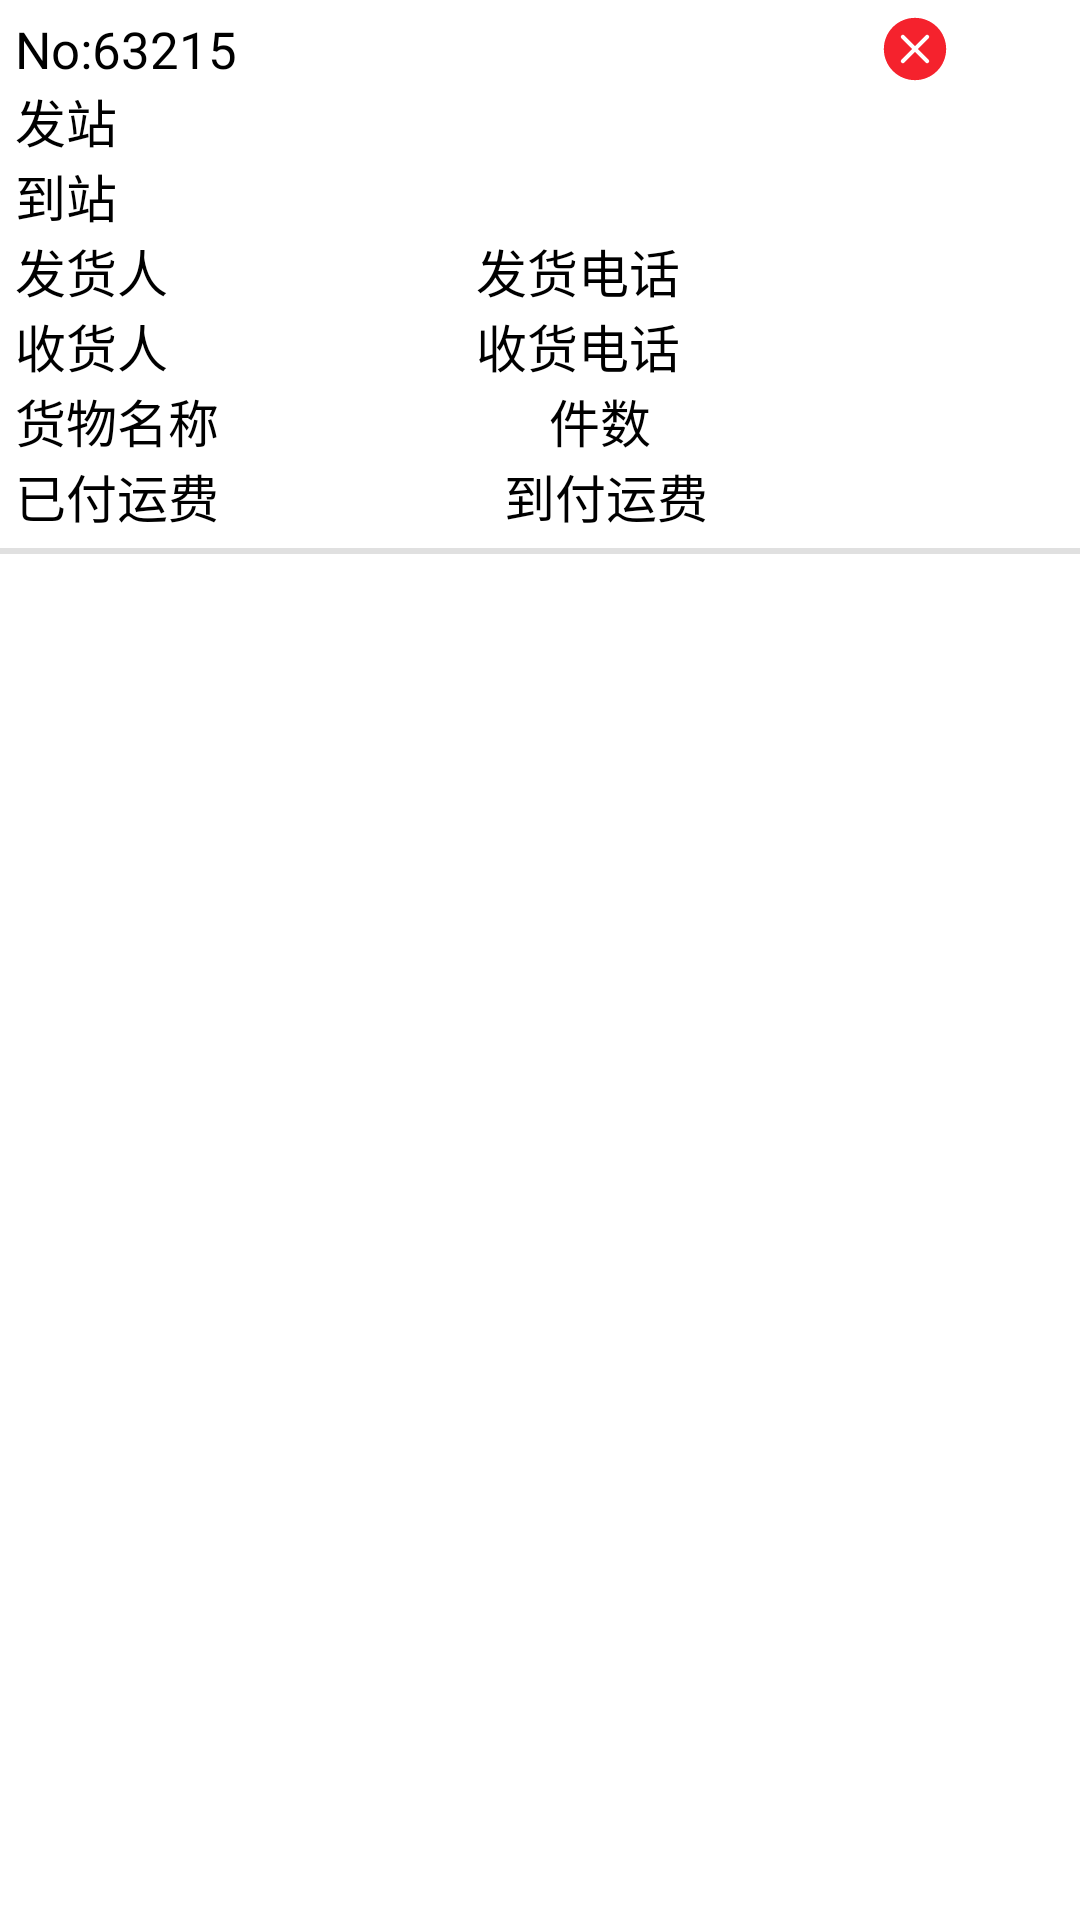

Icon bounding boxes for this 1080 x 1920 phone screenshot, format (x1, y1, x2, y2):
fatal error: (883, 17, 947, 81)
